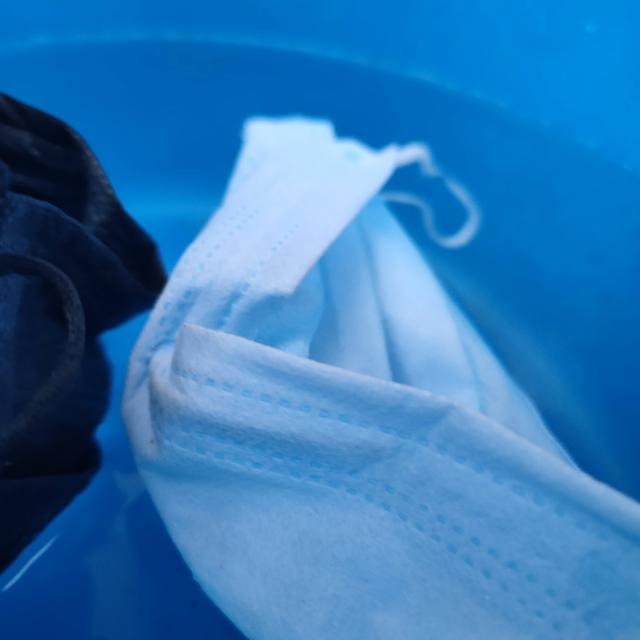mask: (182, 102, 640, 630)
